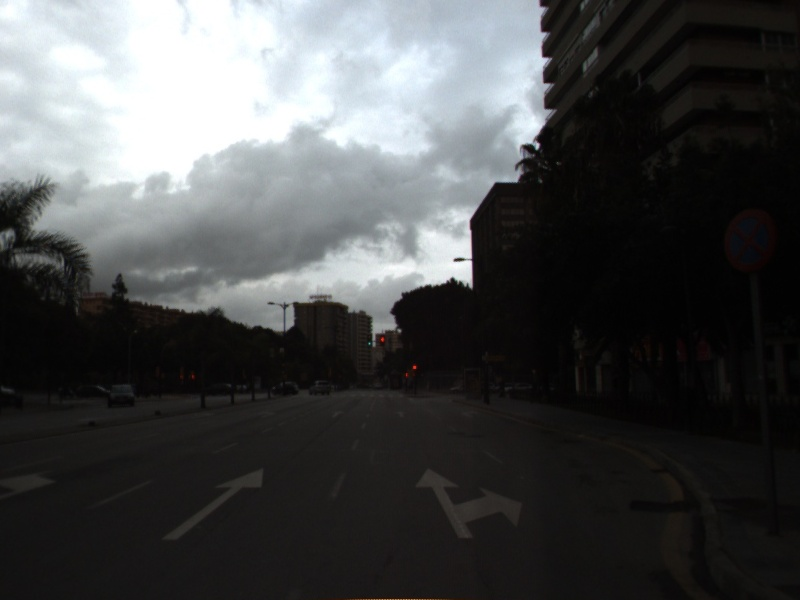LEFT: (1, 462, 63, 504)
STRAIGHT: (158, 465, 266, 543)
STRAIGHT_RIGHT: (411, 465, 526, 540)
